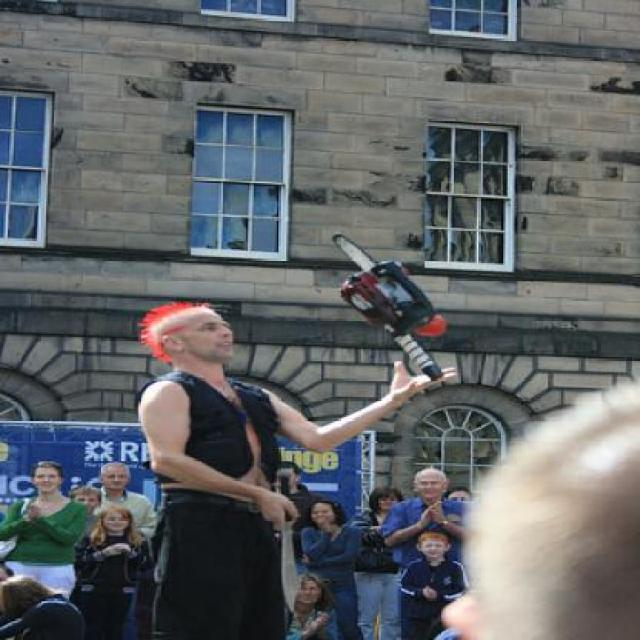Chainsaw: (328, 227, 452, 379)
